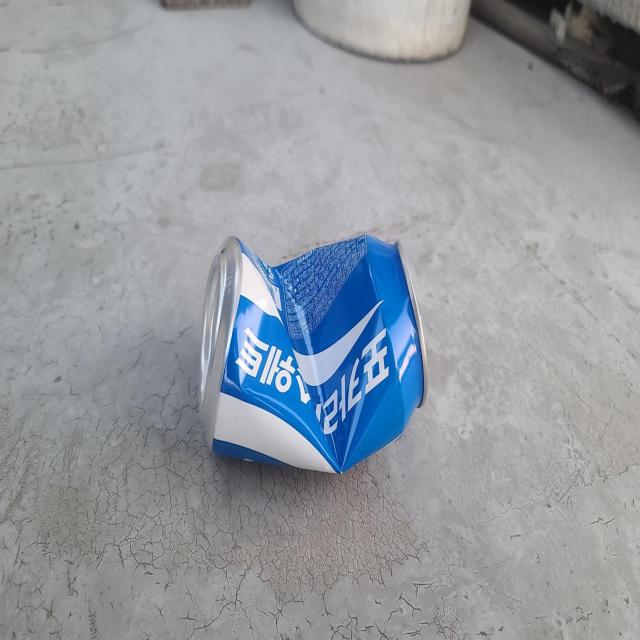can: (200, 233, 428, 472)
